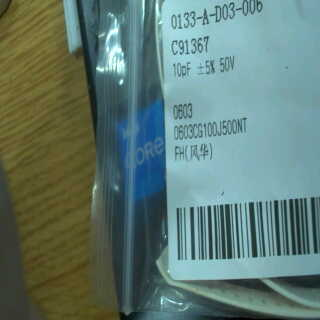10pF: (169, 57, 194, 83)
